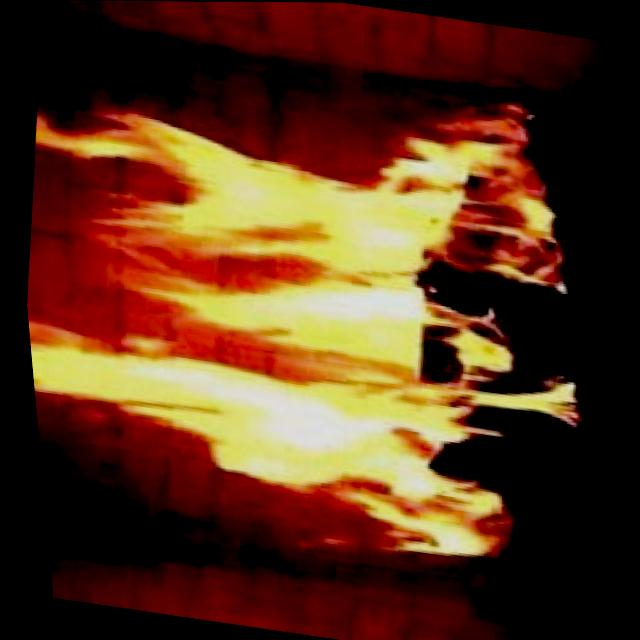helmet: (2, 25, 631, 588)
